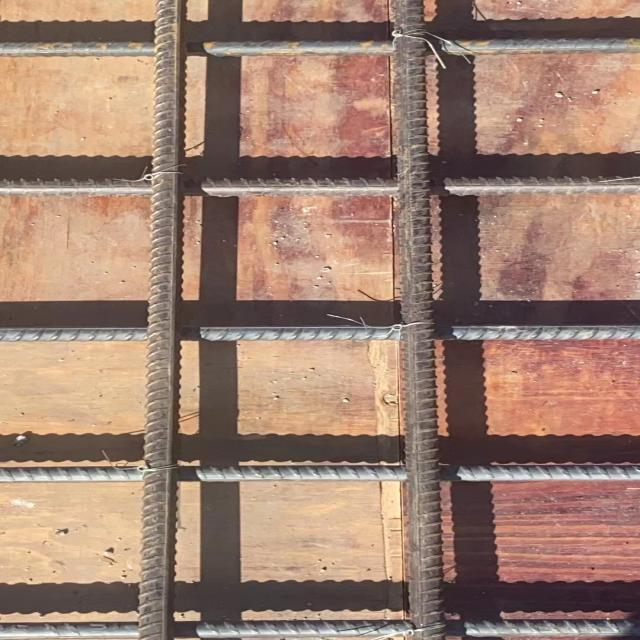ribbed bar: (393, 0, 450, 639), (135, 0, 188, 639), (0, 37, 639, 58), (0, 175, 639, 196), (0, 462, 639, 483), (0, 323, 639, 343), (0, 618, 639, 638)
